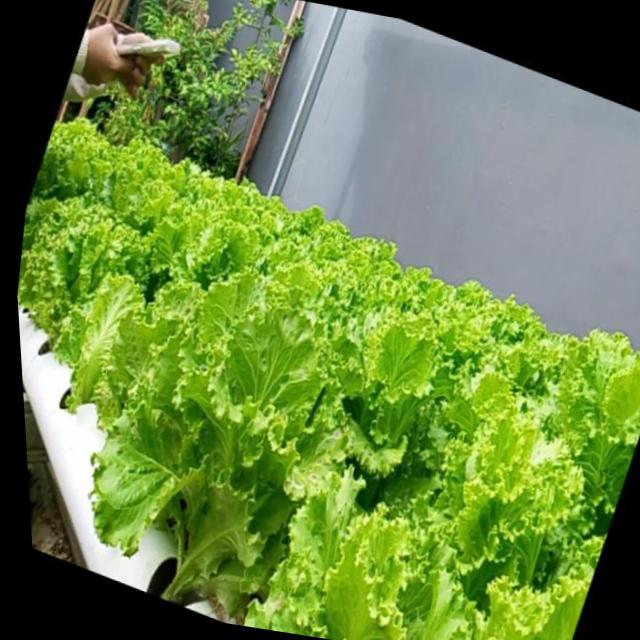Mature: (19, 146, 640, 640), (122, 304, 342, 609), (19, 181, 175, 403)
